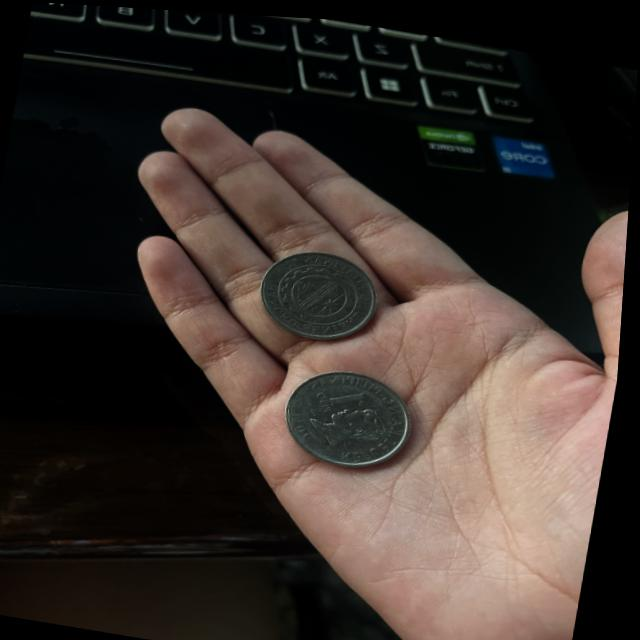1_Old_Back: (270, 250, 368, 332)
1_Old_Front: (293, 372, 405, 459)
